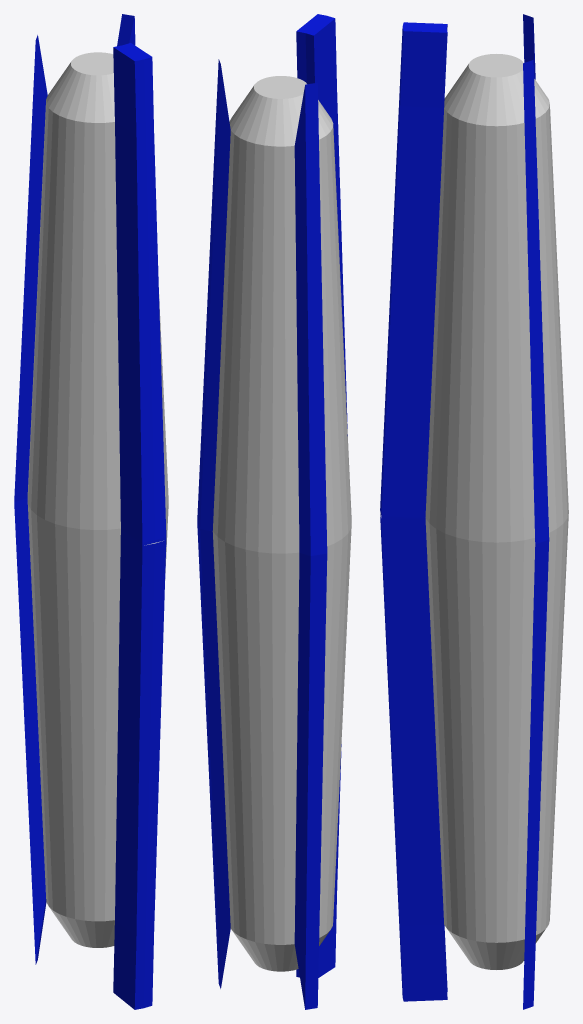
File: basedFalcBLUE.glb
3 renders of one model, left to right at view 1: azimuth 30°, elevation 25°; view 2: azimuth 150°, elevation 25°; view 3: azimuth 270°, elevation 25°, orthographic. The views are drawn at different scales.
Visible parts, largest first — view 1: Circle; view 2: Circle; view 3: Circle.
Boxes of the visible parts, left/top/right/bottom form: Circle: left=14, top=14, right=168, bottom=1009; Circle: left=197, top=14, right=351, bottom=1009; Circle: left=380, top=14, right=568, bottom=1009.
Bounding box in the file's own units: 2.12 × 14.79 × 2.61.
